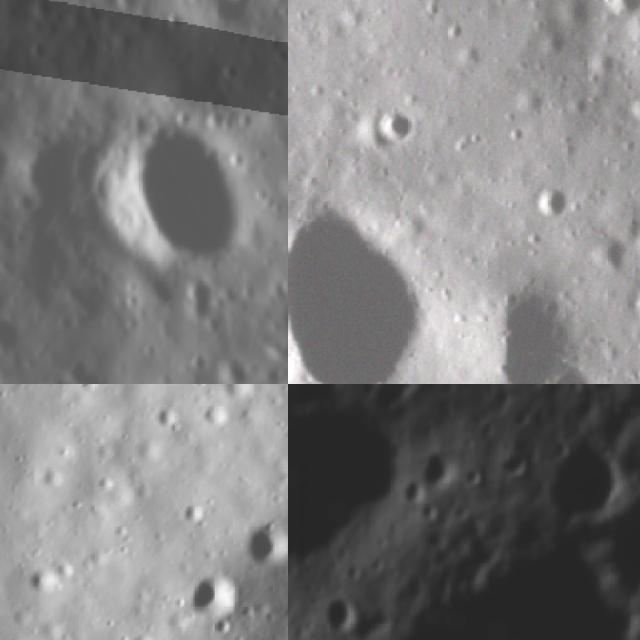crater: (63, 81, 288, 310), (288, 164, 473, 384), (451, 272, 594, 384), (535, 443, 631, 518), (173, 560, 242, 628), (368, 96, 433, 155), (524, 167, 580, 227), (581, 222, 637, 282), (610, 483, 640, 592), (234, 515, 288, 572), (205, 344, 272, 384), (0, 305, 40, 368), (524, 357, 610, 384), (529, 18, 575, 65), (30, 362, 115, 384), (217, 0, 288, 24), (424, 446, 462, 486), (326, 594, 359, 640), (616, 77, 640, 140), (598, 0, 640, 30), (162, 4, 196, 40), (205, 611, 237, 640), (419, 497, 450, 522), (392, 480, 423, 502), (508, 451, 530, 479), (50, 627, 93, 640), (497, 0, 543, 10), (468, 470, 491, 488)
